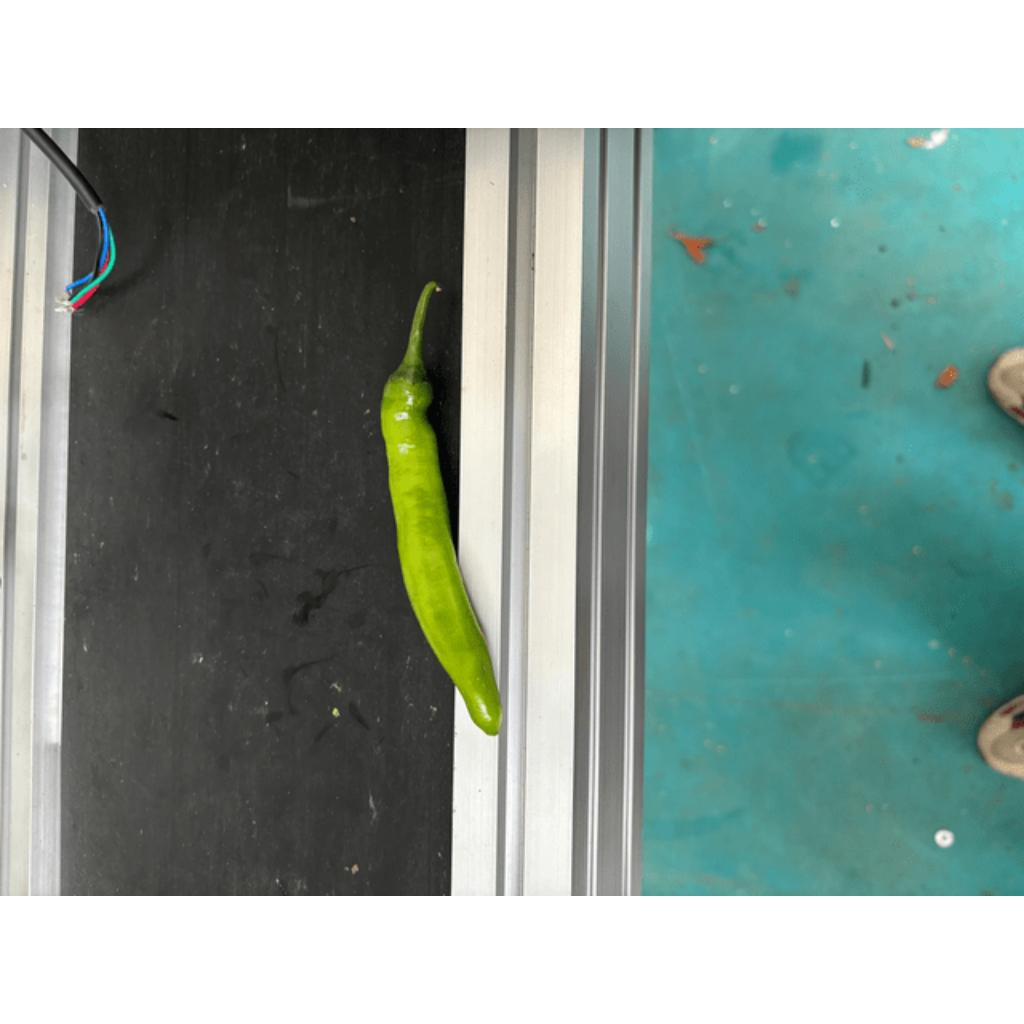chili: (377, 361, 511, 741)
